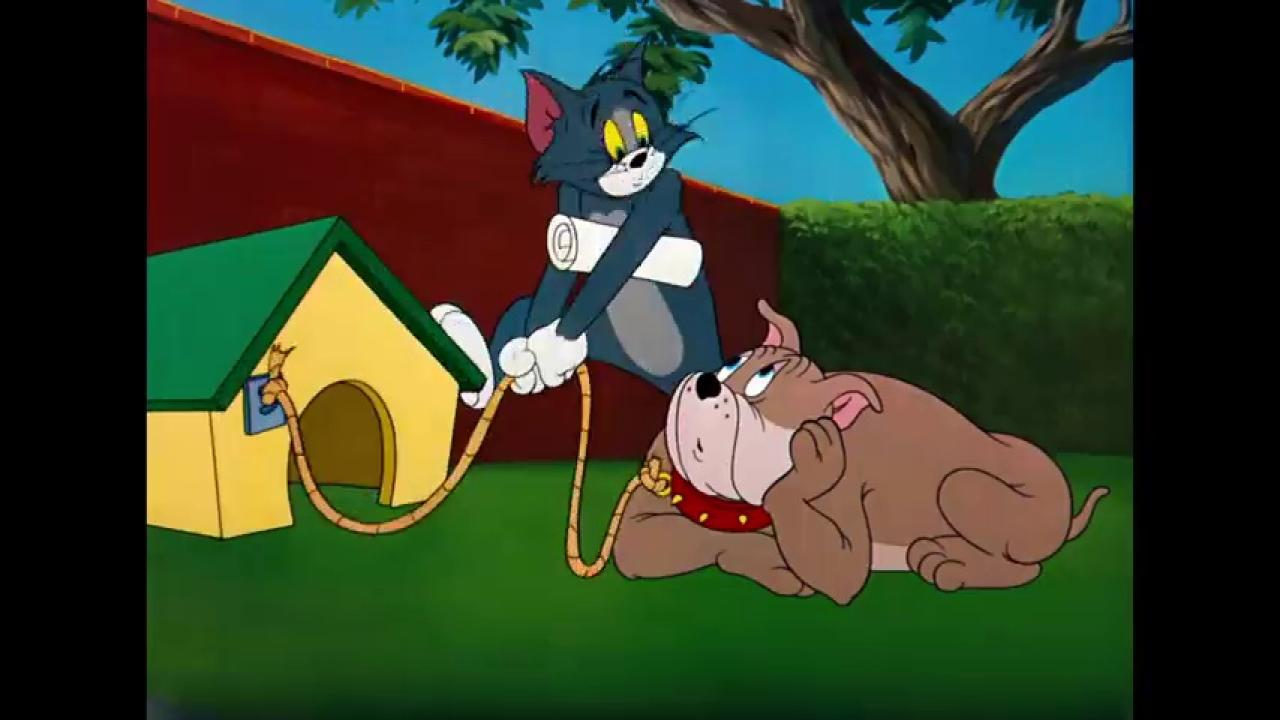Tom: (432, 30, 740, 411)
